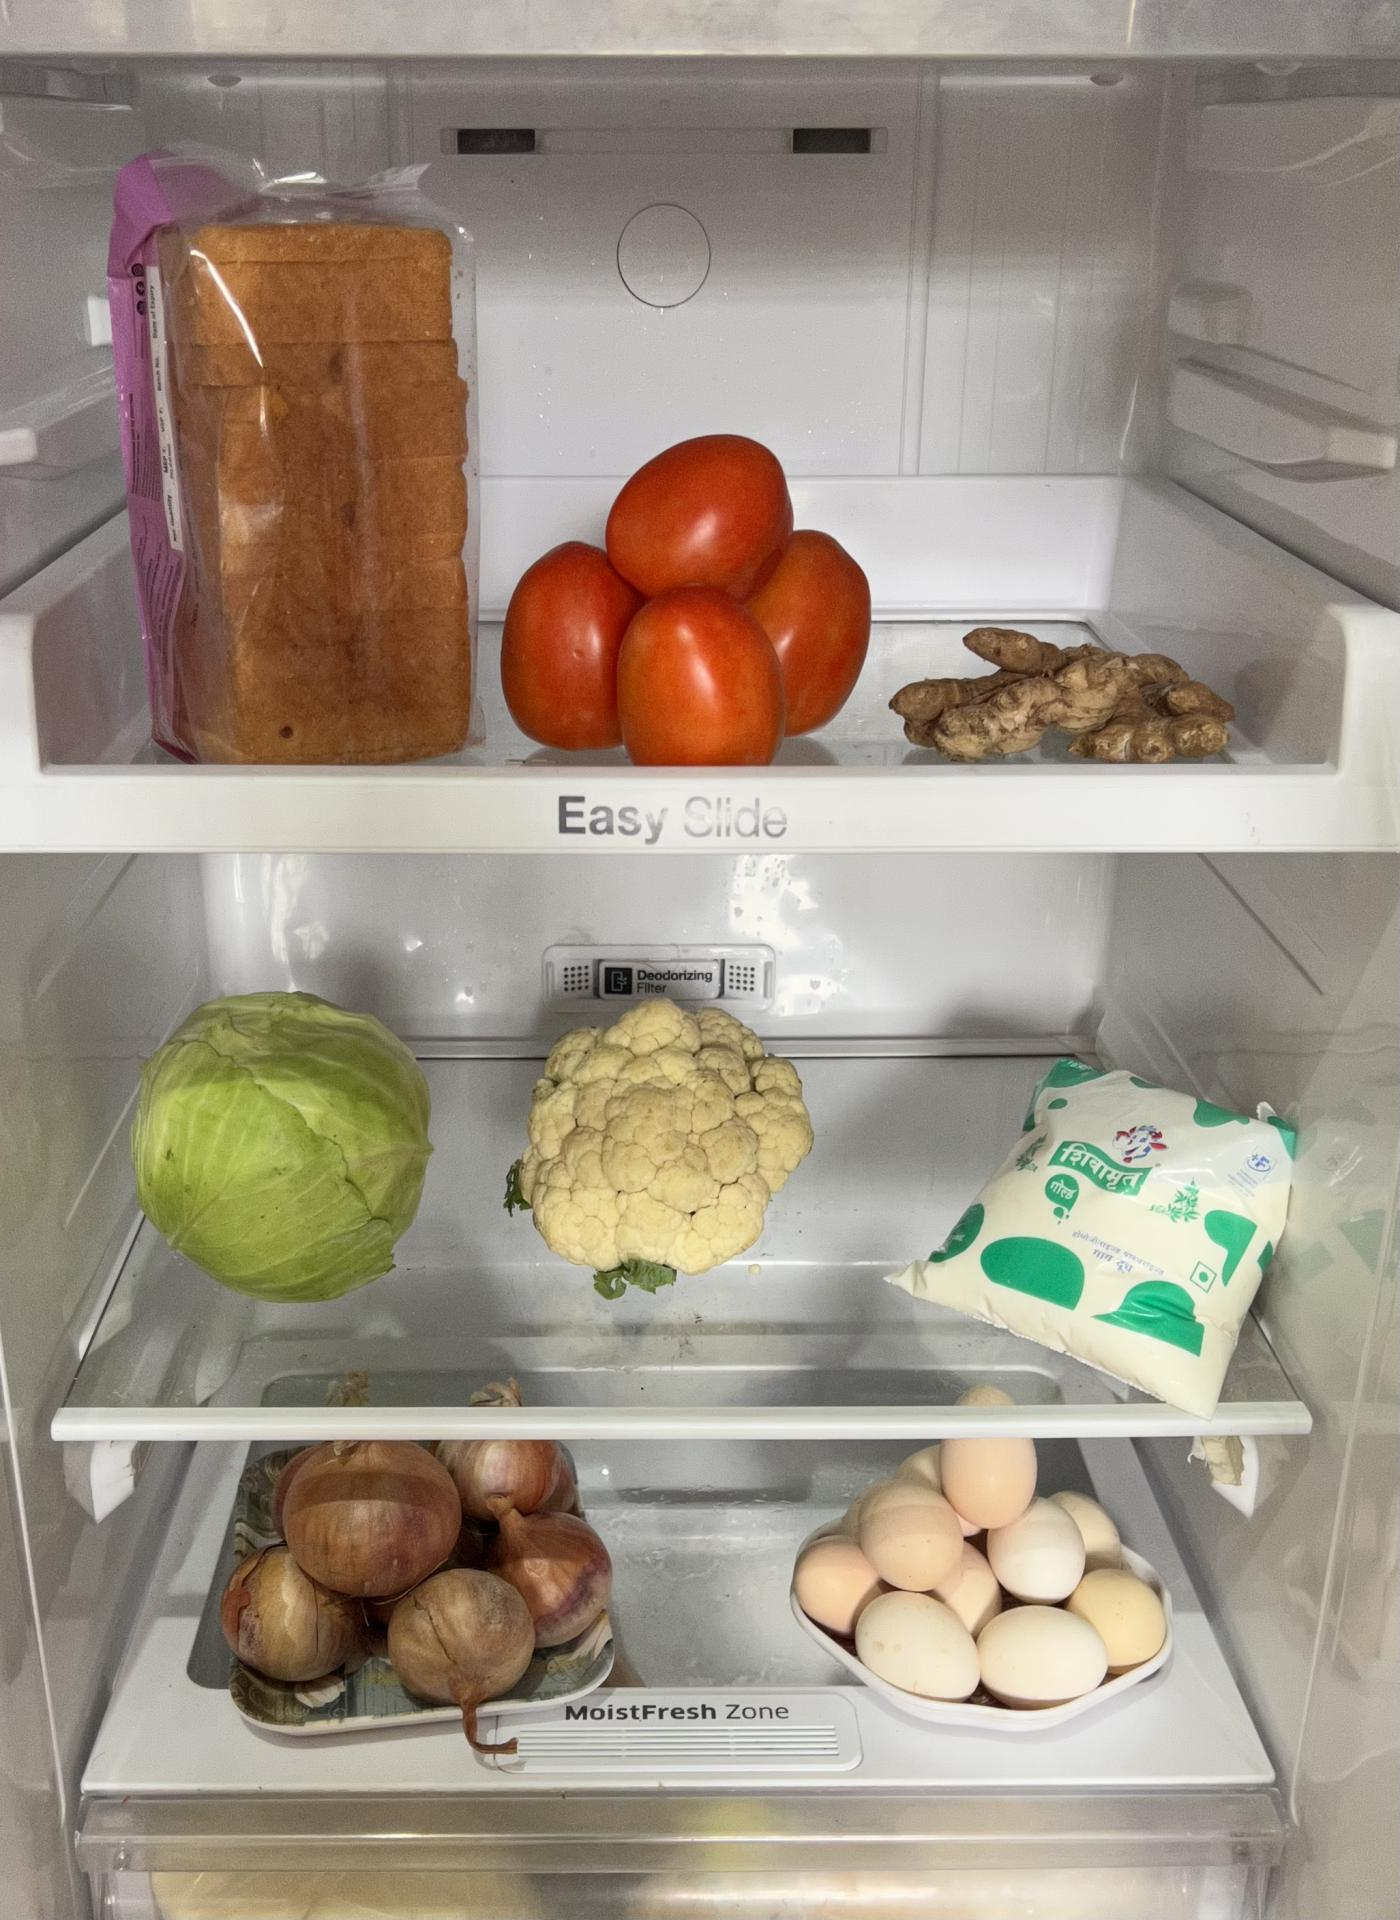bread: (98, 157, 486, 775)
cabbage: (143, 993, 416, 1289)
cauliflower: (519, 987, 805, 1278)
egg: (787, 1439, 1175, 1705)
ginger: (887, 622, 1239, 766)
milk: (887, 1057, 1297, 1388)
onion: (221, 1433, 605, 1699)
tomato: (498, 428, 865, 765)
